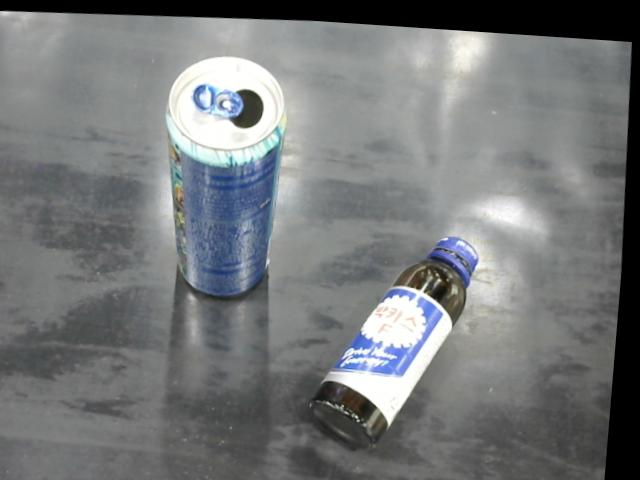can: (155, 49, 298, 300)
glass: (315, 230, 484, 445)
